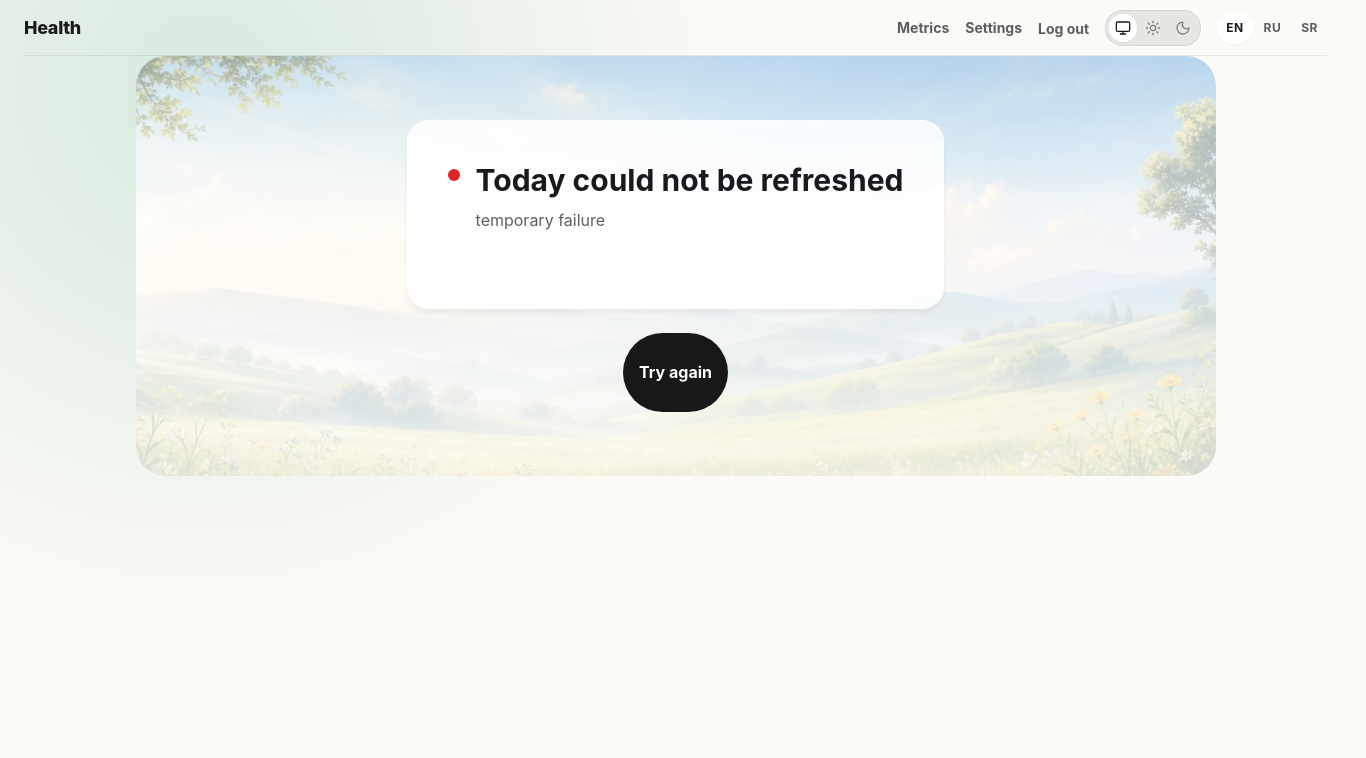
HealthDetailPage › retries a failed load and renders the recovered page
Click the button "Try again".
click(676, 372)  # box top-left (623, 332), bottom-right (728, 412)
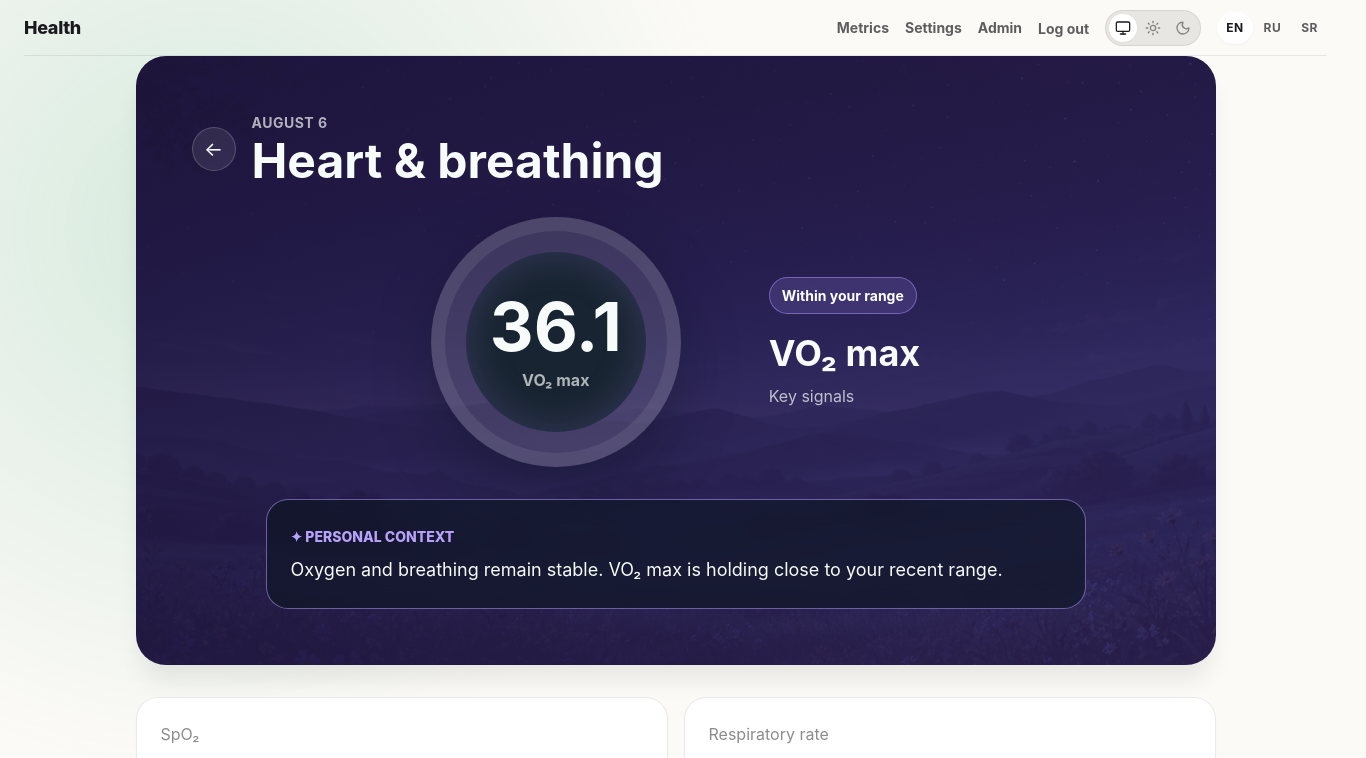
Now the heading "Heart & breathing" is shown, box top-left (252, 137), bottom-right (664, 185)
